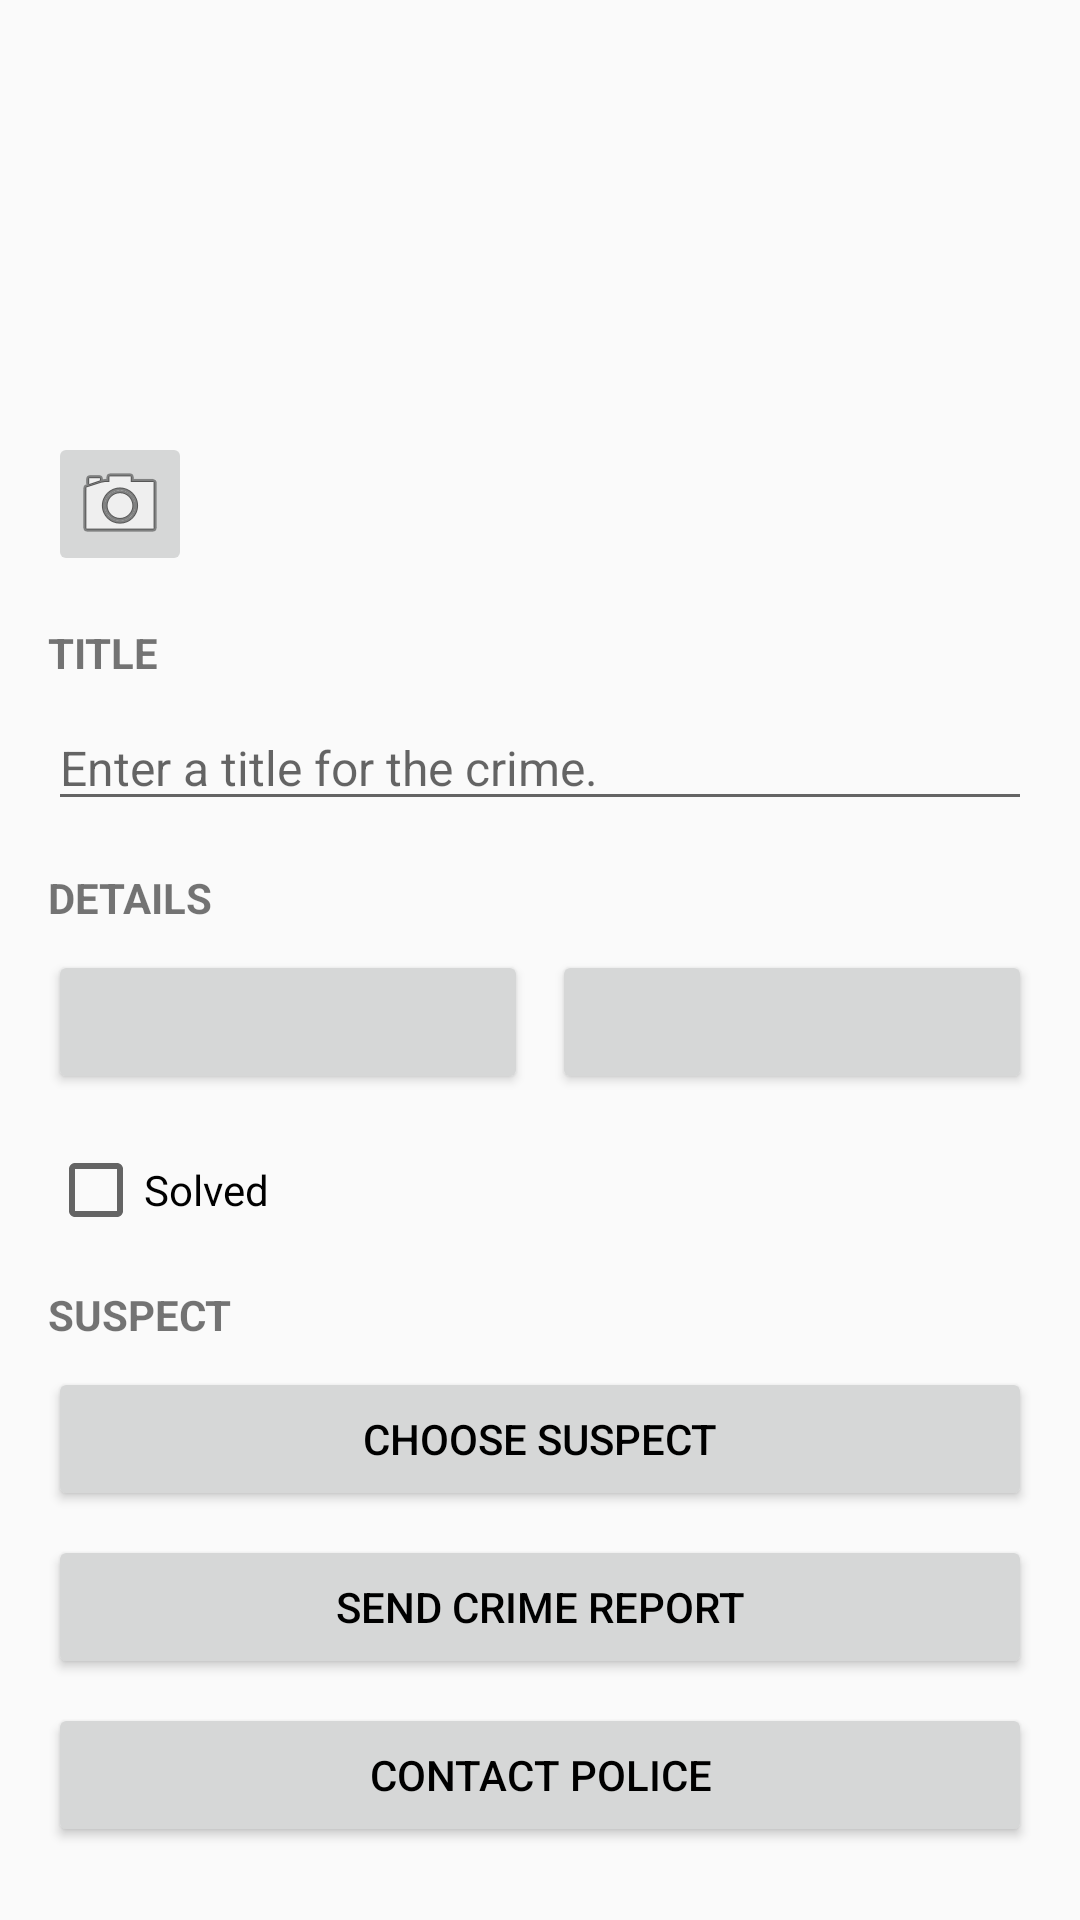

Icons on this 1080w x 1920h Android screen, each with the point to tap as [x,y]:
Take Photo: [120,504]
